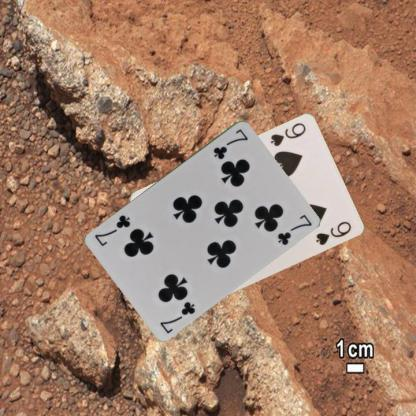7c: (157, 298, 197, 335), (210, 126, 250, 161)
9s: (268, 120, 308, 149)
